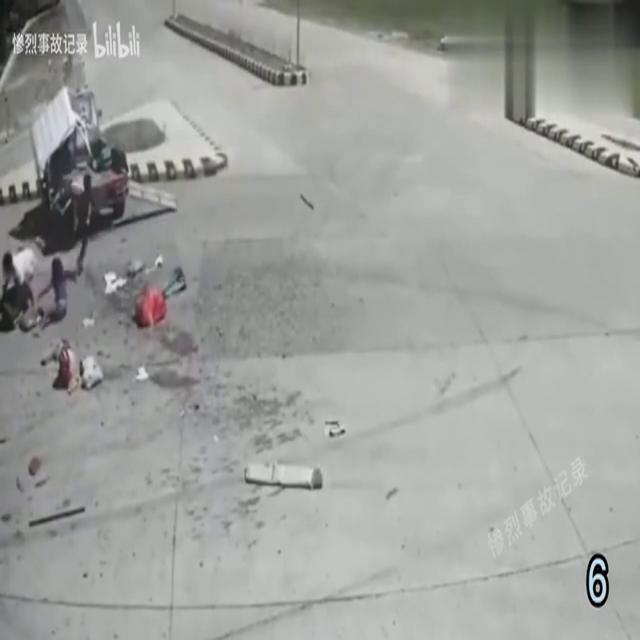multiple_accident: (7, 72, 220, 255), (0, 228, 98, 368)
